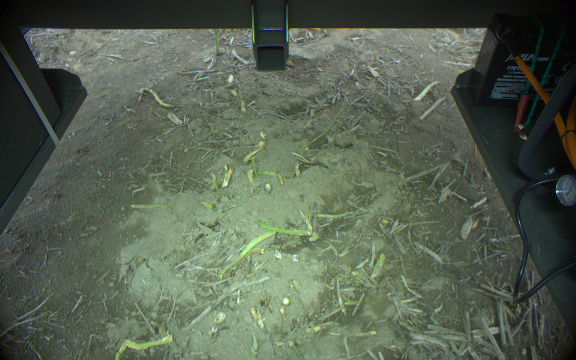aspa: (294, 105, 346, 157), (220, 232, 276, 276), (117, 328, 176, 360), (253, 217, 312, 237), (136, 84, 175, 112), (367, 252, 388, 280), (309, 200, 319, 238), (213, 27, 221, 59), (249, 153, 258, 178)
